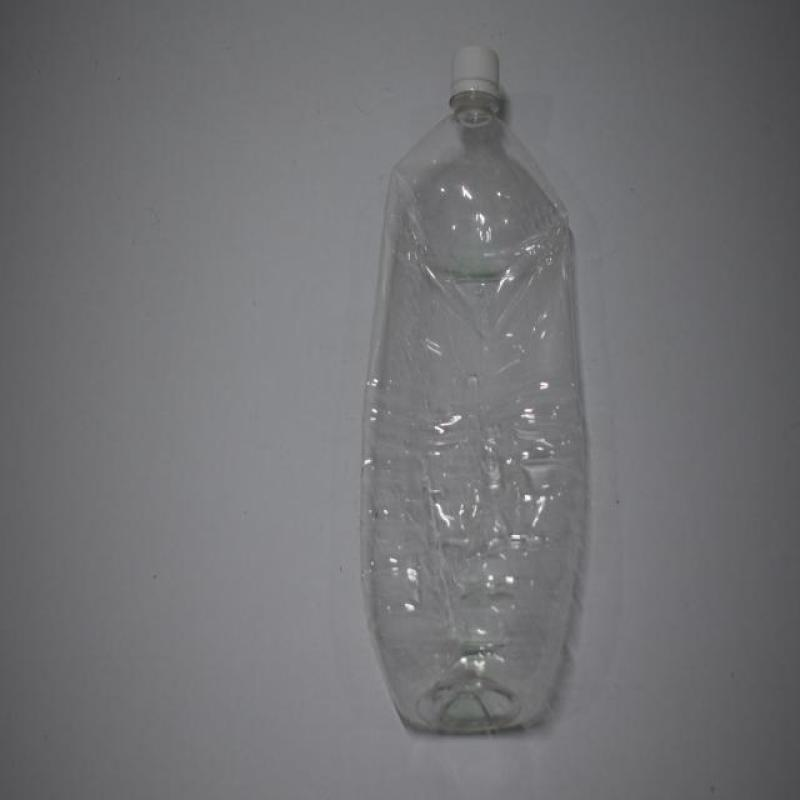botella: (362, 41, 586, 740)
